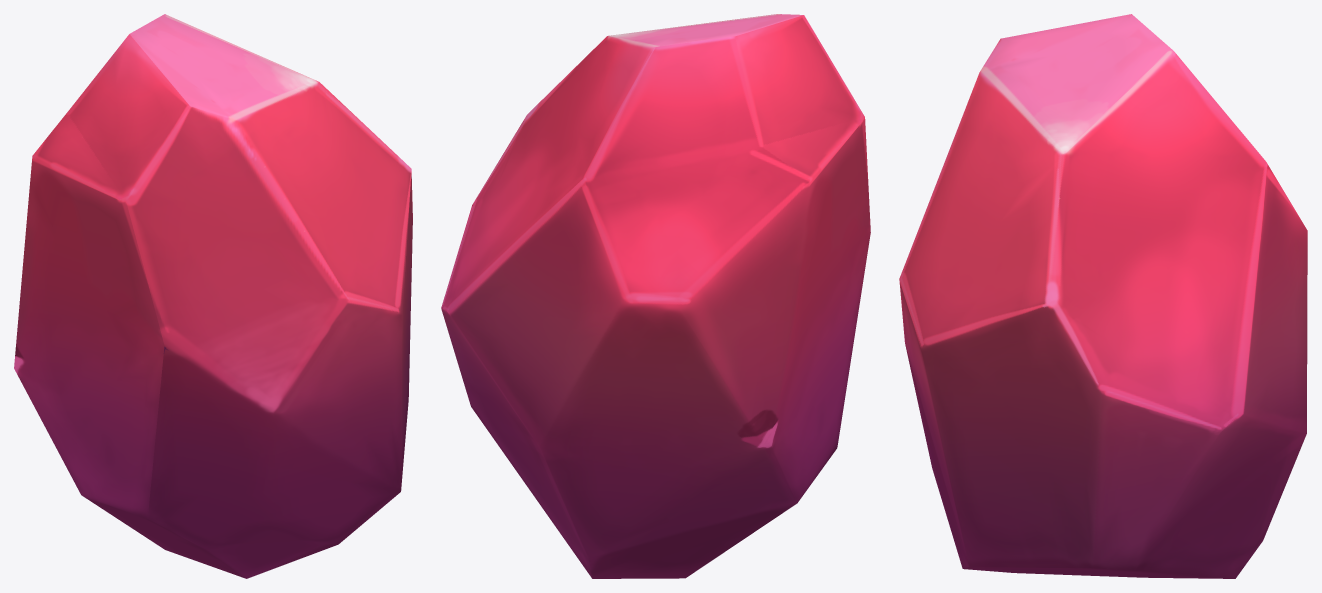
File: crystal-2.glb
3 renders of one model, left to right at view 1: azimuth 30°, elevation 25°; view 2: azimuth 150°, elevation 25°; view 3: azimuth 270°, elevation 25°, orthographic. The views are drawn at different scales.
Visible parts, largest first — view 1: Object_2.004; view 2: Object_2.004; view 3: Object_2.004.
Part boxes in pixels (x1,y1,x2,y2): Object_2.004: [14, 14, 412, 578]; Object_2.004: [441, 14, 870, 578]; Object_2.004: [899, 14, 1307, 578].
Size of the model in its own units: 5.4 by 7.74 by 5.28.
1 material, 1 textured.
